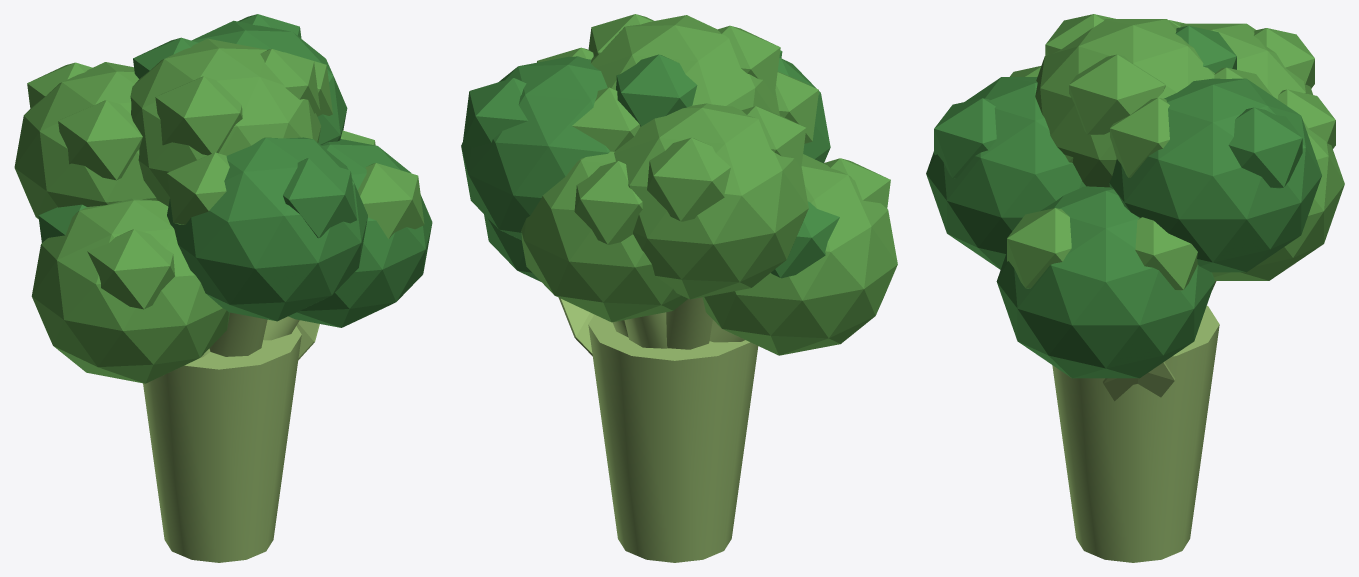
The model's file is food_broccoli.glb.
The picture shows the model from 3 angles, left to right: view 1: azimuth 30°, elevation 25°; view 2: azimuth 150°, elevation 25°; view 3: azimuth 270°, elevation 25°; orthographic projection. The views are drawn at different scales.
Parts seen in each view (by area): view 1: Cut thick stalk, Broccoli crown.003, Broccoli crown, Broccoli crown.006, Broccoli crown.004, Broccoli crown.001, Small floret.020, Small floret.002, Small floret.012, Small floret.010, Broccoli crown.005, Small floret.005 (+10 smaller); view 2: Cut thick stalk, Broccoli crown.004, Broccoli crown, Broccoli crown.005, Broccoli crown.002, Broccoli crown.006, Small floret.014, Small floret.019, Small floret.006, Small floret.016, Small floret.017, Small floret.001 (+10 smaller); view 3: Cut thick stalk, Broccoli crown.001, Broccoli crown.005, Broccoli crown.003, Broccoli crown.006, Small floret.018, Broccoli crown.002, Small floret.016, Small floret.005, Small floret.010, Broccoli crown.004, Small floret.015 (+6 smaller).
Boxes of the visible parts, x1,y1,x2,y2 form: Cut thick stalk: (143, 326, 301, 562); Broccoli crown.003: (167, 137, 367, 321); Broccoli crown: (31, 198, 229, 383); Broccoli crown.006: (130, 38, 321, 206); Broccoli crown.004: (14, 62, 157, 219); Broccoli crown.001: (288, 139, 432, 327); Small floret.020: (155, 76, 242, 155); Small floret.002: (87, 229, 174, 309); Small floret.012: (58, 100, 142, 180); Small floret.010: (283, 158, 356, 238); Broccoli crown.005: (191, 20, 347, 144); Small floret.005: (357, 163, 424, 238); Cut thick stalk: (588, 314, 758, 562); Broccoli crown.004: (614, 103, 808, 299); Broccoli crown: (702, 154, 897, 355); Broccoli crown.005: (461, 56, 610, 240); Broccoli crown.002: (521, 151, 687, 322); Broccoli crown.006: (591, 15, 779, 115); Small floret.014: (647, 137, 730, 221); Small floret.019: (616, 54, 697, 126); Small floret.006: (574, 161, 642, 244); Small floret.016: (463, 78, 527, 147); Small floret.017: (572, 87, 640, 151); Small floret.001: (771, 201, 839, 278); Cut thick stalk: (1052, 305, 1219, 562); Broccoli crown.001: (996, 186, 1214, 378); Broccoli crown.005: (1109, 78, 1321, 272); Broccoli crown.003: (926, 77, 1085, 269); Broccoli crown.006: (1035, 19, 1214, 187); Small floret.018: (1069, 54, 1165, 135); Broccoli crown.002: (1212, 120, 1344, 280); Small floret.016: (1228, 107, 1302, 188); Small floret.005: (1007, 208, 1071, 288); Small floret.010: (934, 98, 996, 178); Broccoli crown.004: (1180, 23, 1312, 99); Small floret.015: (1110, 97, 1169, 177).
Bounding box in the file's own units: 0.1953 × 0.249 × 0.184.
